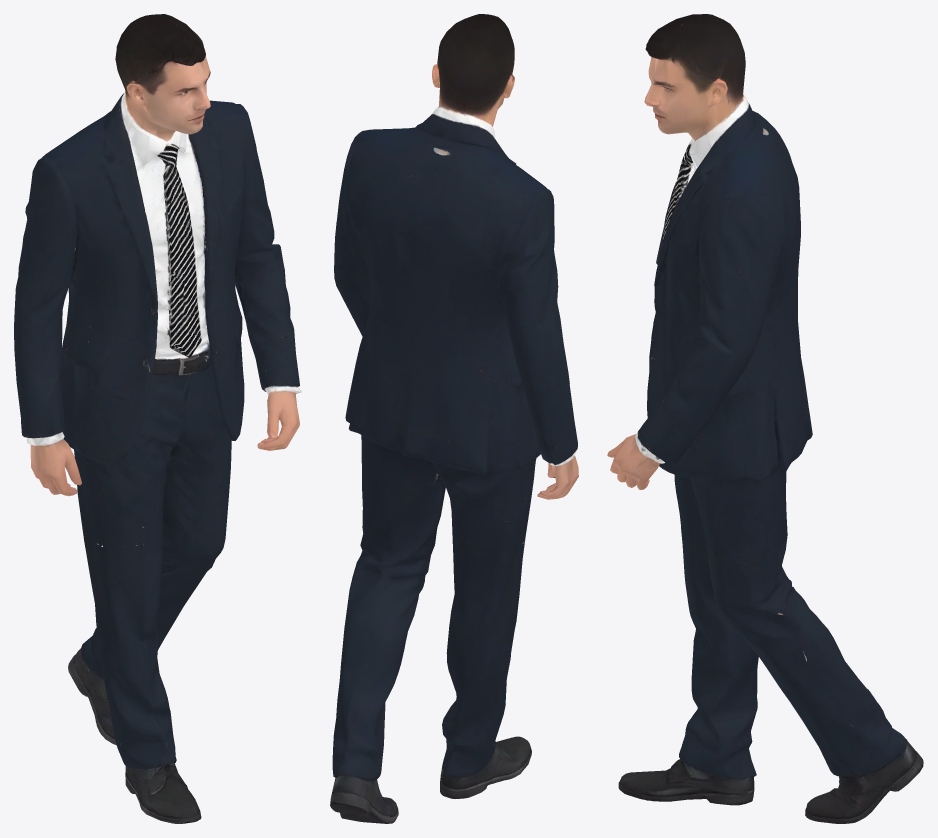
Rendered from professor.glb.
3 renders of one model, left to right at view 1: azimuth 30°, elevation 25°; view 2: azimuth 150°, elevation 25°; view 3: azimuth 270°, elevation 25°, orthographic. The views are drawn at different scales.
Parts seen in each view (by area): view 1: mesh_0; view 2: mesh_0; view 3: mesh_0.
Part boxes in pixels (<box>): mesh_0: <box>14,14,301,823</box>; mesh_0: <box>330,14,578,823</box>; mesh_0: <box>607,14,923,823</box>.
Size of the model in its own units: 0.6285 by 1.9 by 0.6973.
1 material, 1 textured.
